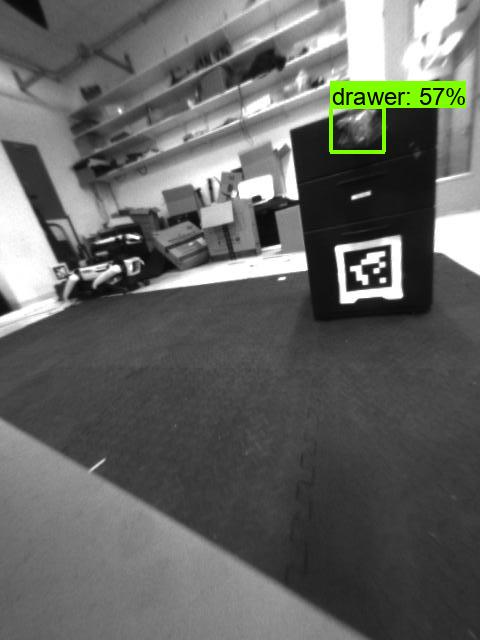drawer: (329, 108, 390, 149)
